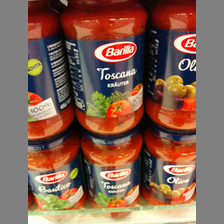tomato_sauce: (58, 1, 148, 135), (78, 133, 144, 220)
